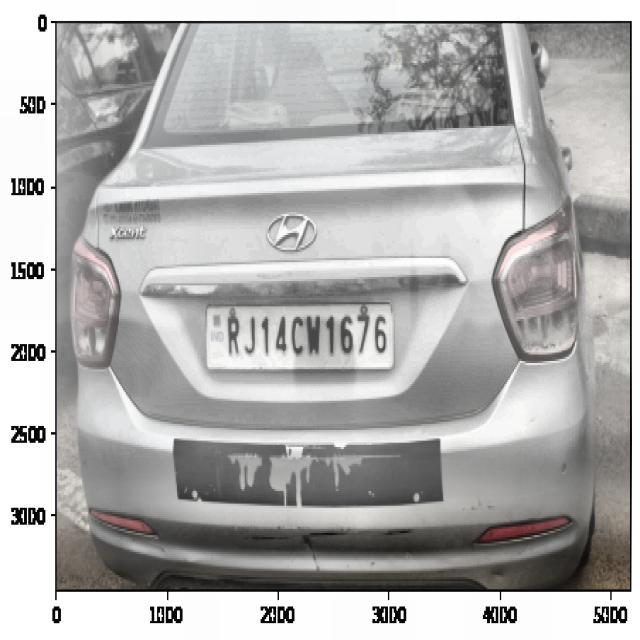license_plate: (218, 301, 396, 370)
